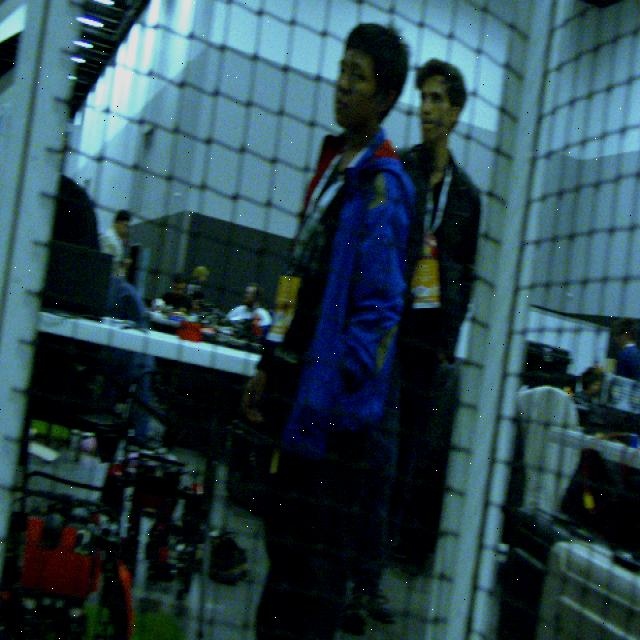goalpost: (0, 0, 85, 557)
